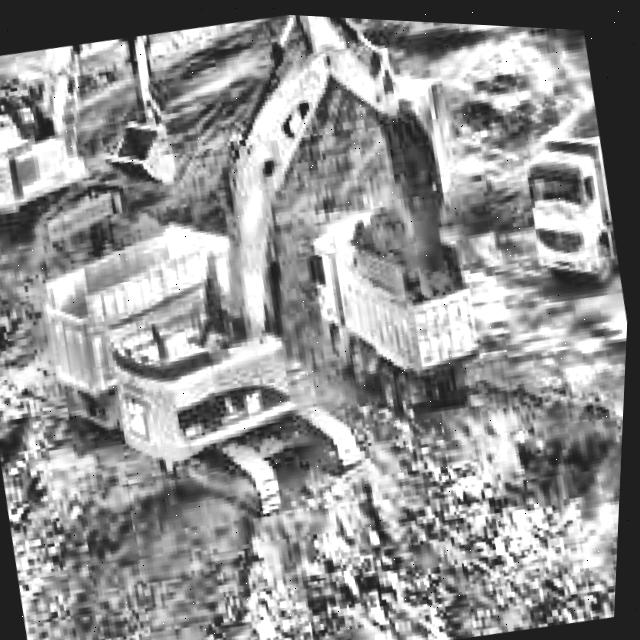dump_truck: (296, 183, 497, 428), (31, 205, 256, 399), (508, 84, 630, 291)
excavator: (43, 3, 528, 552), (0, 25, 195, 261)
